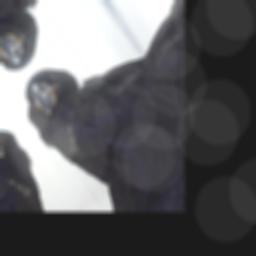Crow: (9, 4, 184, 206)
